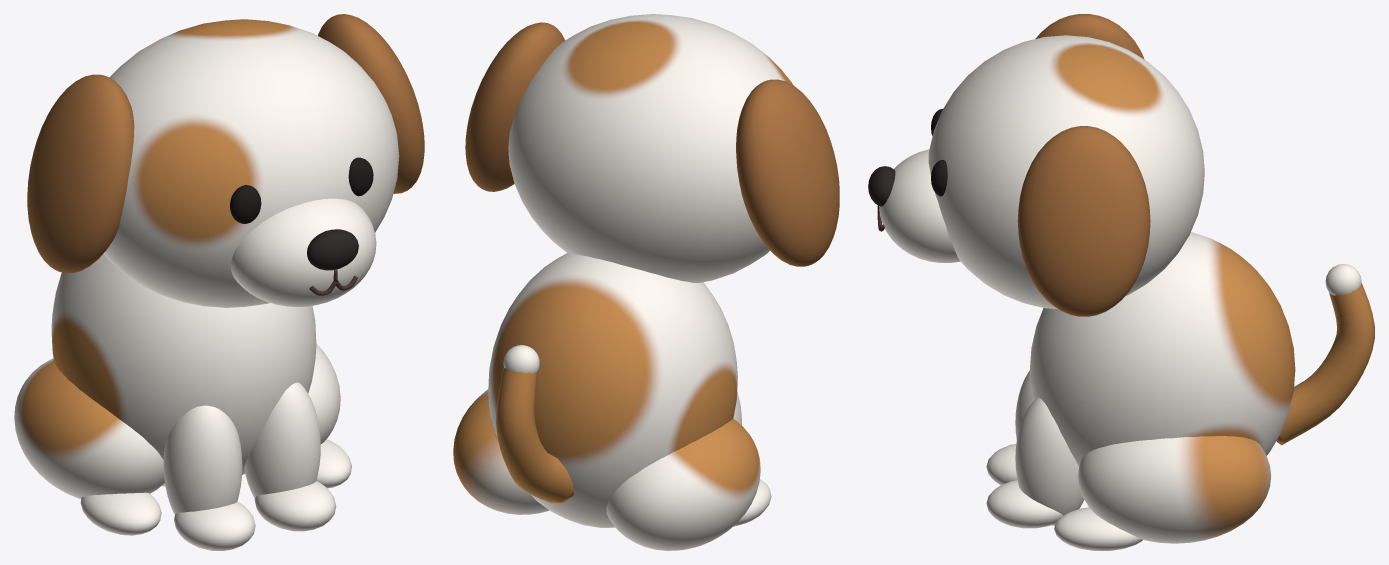
The model's file is dog.glb.
3 renders of one model, left to right at view 1: azimuth 30°, elevation 25°; view 2: azimuth 150°, elevation 25°; view 3: azimuth 270°, elevation 25°, orthographic. The views are drawn at different scales.
Parts seen in each view (by area): view 1: Dog_Coat, Dog_Ear_L, Dog_FrontLeg_L, Dog_Ear_R, Dog_FrontLeg_R, Dog_Paw_L, Dog_Paw_R, Dog_BackPaw_L, Dog_Nose, Dog_BackPaw_R, Dog_Eye_L, Dog_Eye_R; view 2: Dog_Coat, Dog_Ear_L, Dog_Ear_R, Dog_Tail, Dog_TailTip, Dog_BackPaw_L; view 3: Dog_Coat, Dog_Ear_R, Dog_Tail, Dog_FrontLeg_R, Dog_BackPaw_R, Dog_Paw_R, Dog_Ear_L, Dog_Paw_L, Dog_TailTip, Dog_Nose.
Part boxes in pixels (x1=…): Dog_Coat: x1=14, y1=19, x2=399, y2=498; Dog_Ear_L: x1=27, y1=74, x2=134, y2=273; Dog_FrontLeg_L: x1=163, y1=405, x2=242, y2=514; Dog_Ear_R: x1=318, y1=14, x2=424, y2=193; Dog_FrontLeg_R: x1=244, y1=382, x2=320, y2=498; Dog_Paw_L: x1=174, y1=501, x2=255, y2=550; Dog_Paw_R: x1=254, y1=481, x2=336, y2=531; Dog_BackPaw_L: x1=80, y1=492, x2=161, y2=535; Dog_Nose: x1=307, y1=229, x2=358, y2=270; Dog_BackPaw_R: x1=316, y1=439, x2=351, y2=488; Dog_Eye_L: x1=230, y1=185, x2=261, y2=223; Dog_Eye_R: x1=348, y1=157, x2=373, y2=196; Dog_Coat: x1=453, y1=14, x2=792, y2=550; Dog_Ear_L: x1=736, y1=79, x2=839, y2=266; Dog_Ear_R: x1=465, y1=22, x2=564, y2=191; Dog_Tail: x1=496, y1=366, x2=573, y2=503; Dog_TailTip: x1=503, y1=345, x2=539, y2=373; Dog_BackPaw_L: x1=733, y1=479, x2=771, y2=526; Dog_Coat: x1=879, y1=35, x2=1295, y2=543; Dog_Ear_R: x1=1017, y1=126, x2=1150, y2=316; Dog_Tail: x1=1276, y1=283, x2=1374, y2=445; Dog_FrontLeg_R: x1=1015, y1=397, x2=1084, y2=525; Dog_BackPaw_R: x1=1054, y1=507, x2=1142, y2=550; Dog_Paw_R: x1=986, y1=480, x2=1062, y2=528; Dog_Ear_L: x1=1035, y1=14, x2=1144, y2=59; Dog_Paw_L: x1=986, y1=444, x2=1017, y2=485; Dog_TailTip: x1=1325, y1=264, x2=1361, y2=295; Dog_Nose: x1=868, y1=166, x2=895, y2=206.
Size of the model in its own units: 0.3316 by 0.415 by 0.4199.
7 materials, 1 textured.
